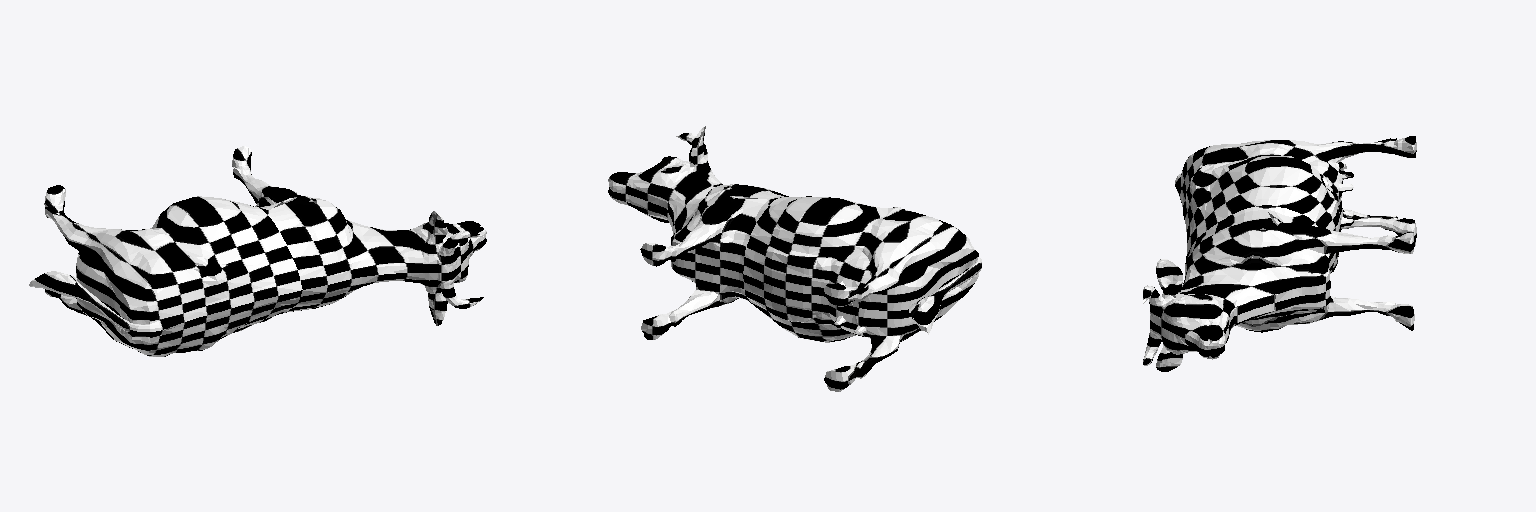
The picture shows the model from 3 angles: view 1: azimuth 30°, elevation 25°; view 2: azimuth 150°, elevation 25°; view 3: azimuth 270°, elevation 25°; orthographic projection.
Visible parts, largest first — view 1: cow_osg_0; view 2: cow_osg_0; view 3: cow_osg_0.
Part boxes in pixels (x1,y1,x2,y2): cow_osg_0: (29,146,486,356); cow_osg_0: (608,126,981,391); cow_osg_0: (1143,136,1416,371).
Size of the model in its own units: 10.44 by 3.4 by 6.4.
1 materials, 1 textured.